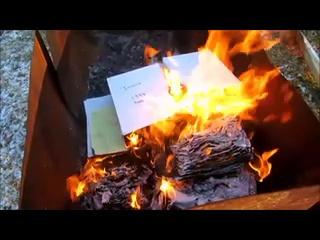Fire: (134, 32, 284, 148)
